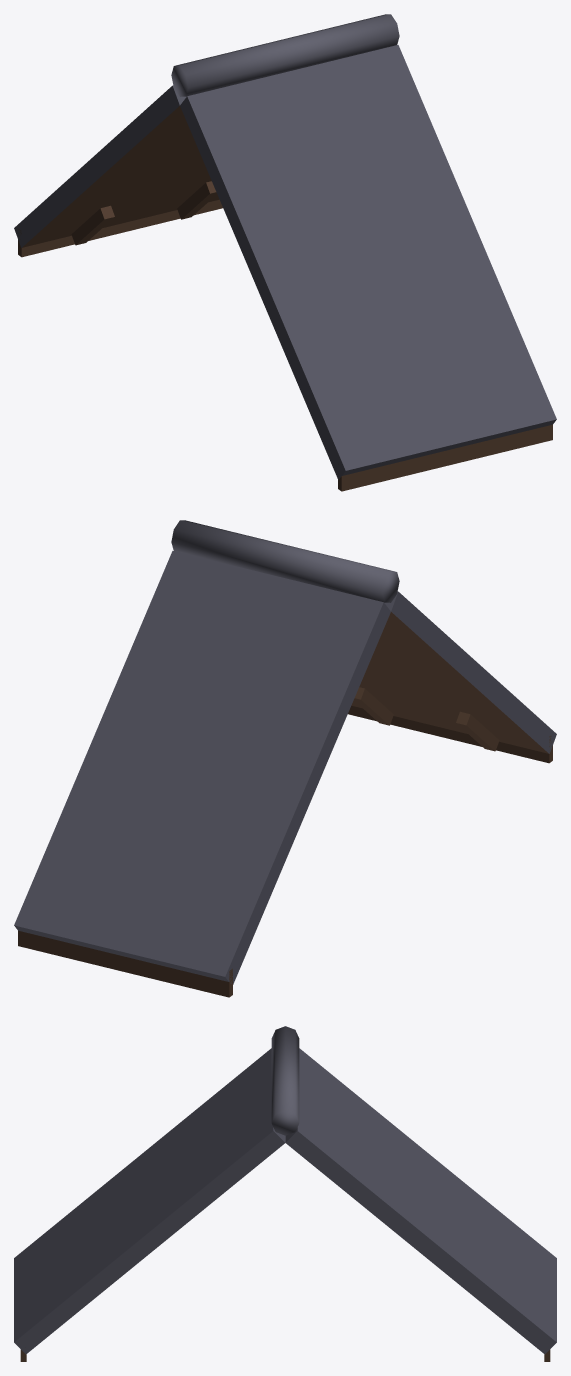
Rendered from kit_timber_slate_w2.glb.
The picture shows the model from 3 angles, top to bottom: view 1: azimuth 30°, elevation 25°; view 2: azimuth 150°, elevation 25°; view 3: azimuth 270°, elevation 25°; orthographic projection. The views are drawn at different scales.
Visible parts, largest first — view 1: kit_timber_slate_w2; view 2: kit_timber_slate_w2; view 3: kit_timber_slate_w2.
Boxes of the visible parts, x1,y1,x2,y2 form: kit_timber_slate_w2: (14, 14, 556, 491); kit_timber_slate_w2: (14, 520, 556, 997); kit_timber_slate_w2: (14, 1026, 556, 1361).
Bounding box in the file's own units: 1 × 1.39 × 2.72.
